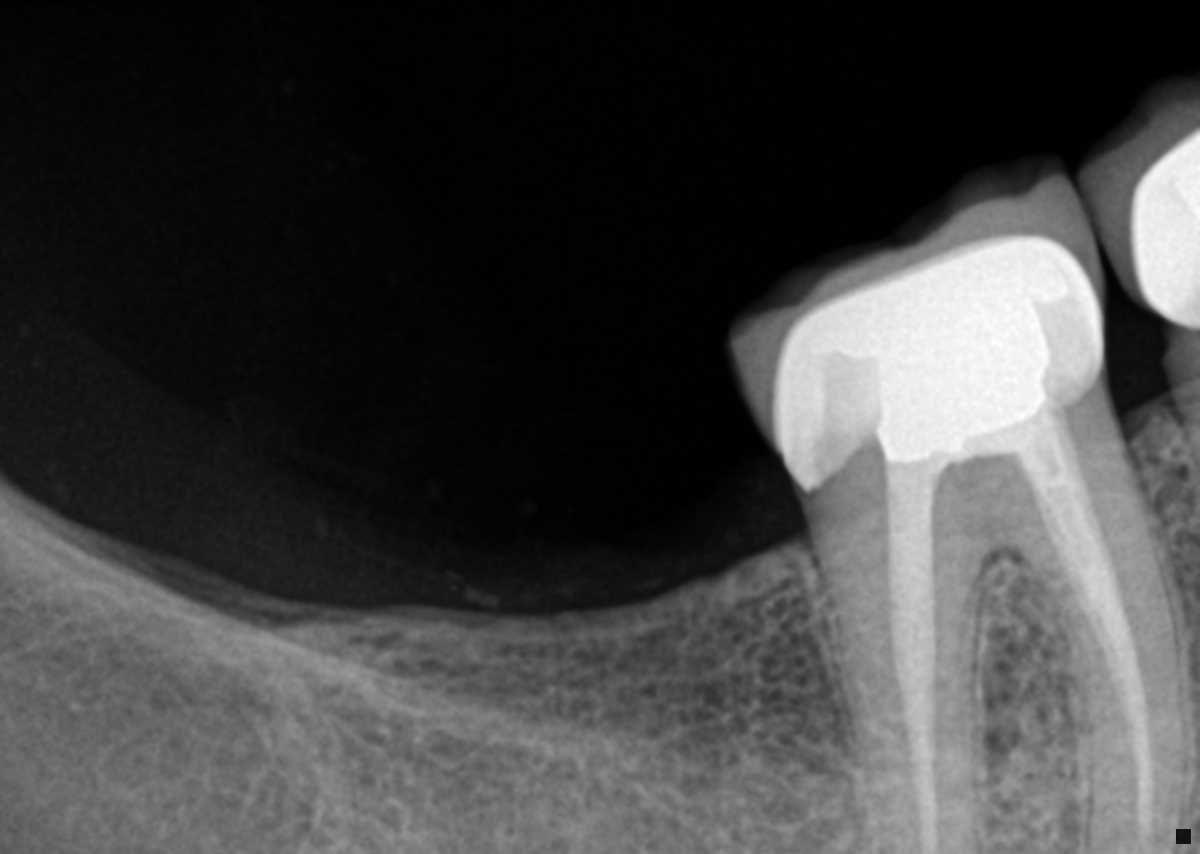Distal Root: (797, 444, 996, 849)
Root Canal Filling: (971, 418, 1157, 850), (883, 457, 958, 838)
